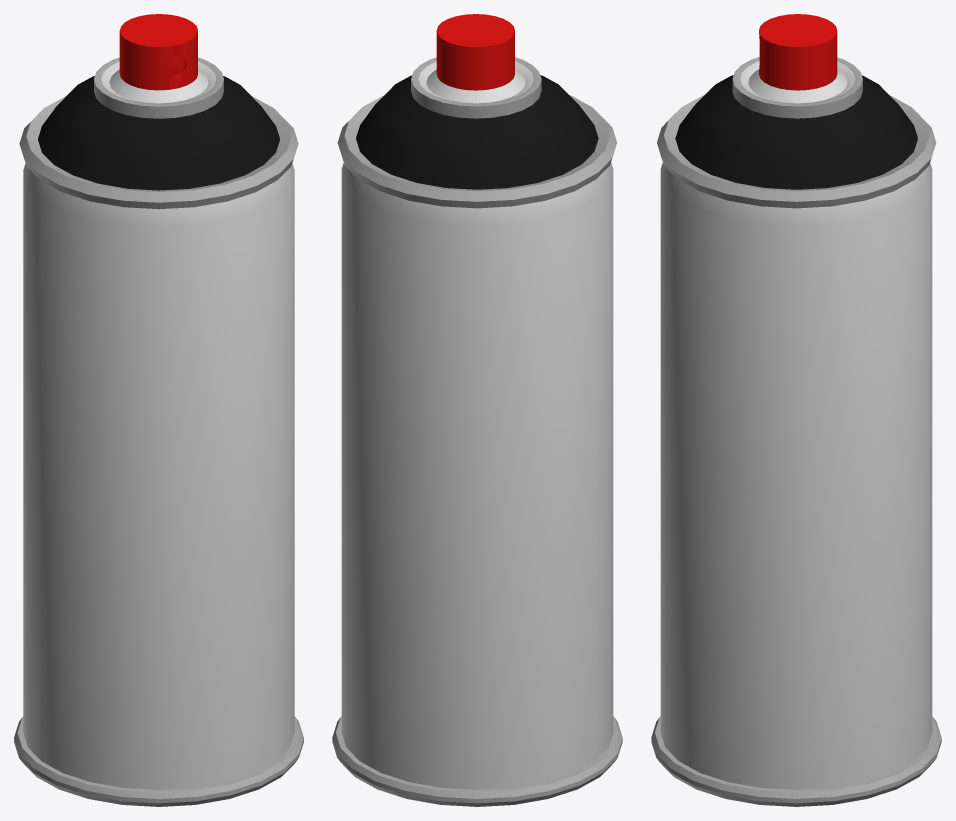
Rendered from sprey_box.fbx.
3 renders of one model, left to right at view 1: azimuth 30°, elevation 25°; view 2: azimuth 150°, elevation 25°; view 3: azimuth 270°, elevation 25°, orthographic.
Parts seen in each view (by area): view 1: Cylinder; view 2: Cylinder; view 3: Cylinder.
Boxes of the visible parts, bbox=[...] form: Cylinder: bbox=[14, 14, 303, 806]; Cylinder: bbox=[332, 14, 622, 806]; Cylinder: bbox=[651, 14, 941, 806].
Size of the model in its own units: 76.48 by 208 by 76.48.
